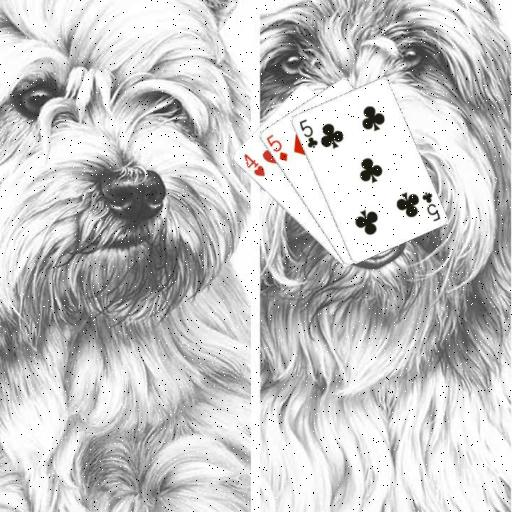4H: (240, 150, 266, 178)
5C: (296, 116, 320, 150), (418, 189, 442, 223)
5D: (263, 131, 289, 163)
